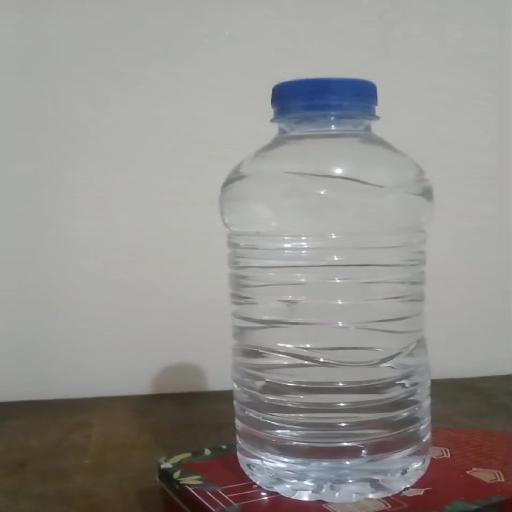bouteille non conformite: (209, 62, 482, 500), (174, 227, 512, 389)
